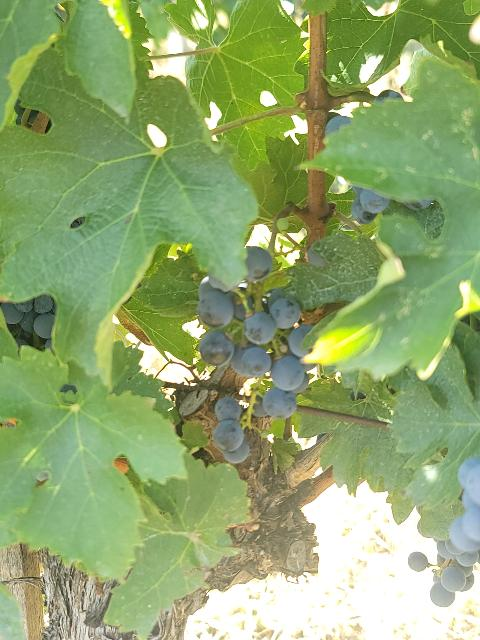grapes: (196, 275, 312, 425), (212, 396, 250, 464), (236, 246, 274, 305)
